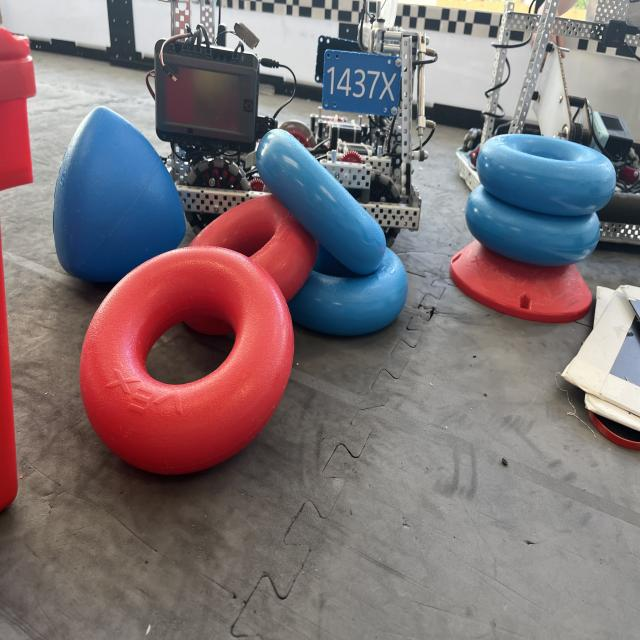Blue-Ring: (256, 128, 386, 275), (476, 133, 615, 217), (465, 185, 600, 267), (289, 248, 408, 335)
Red-Ring: (80, 247, 294, 475), (191, 193, 319, 302)
